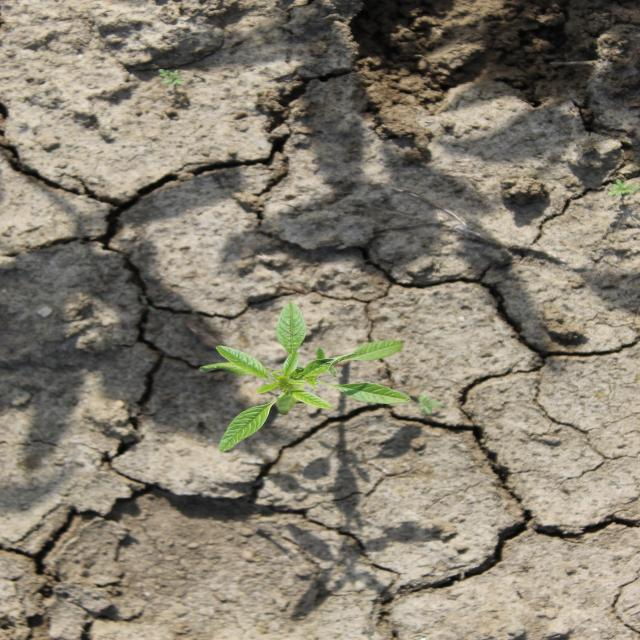Waterhemp: (195, 301, 415, 454)
